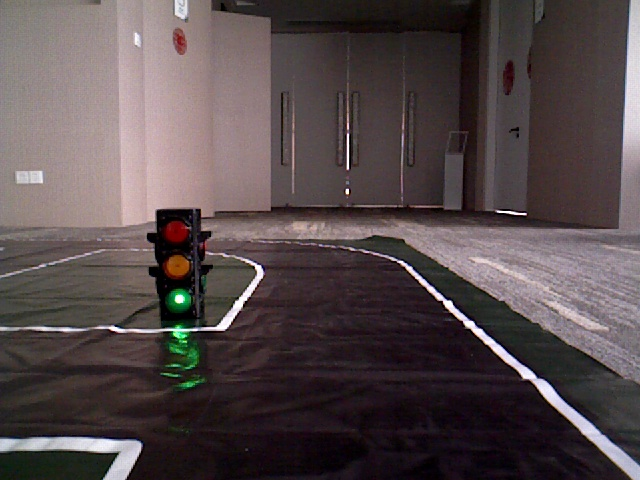green: (155, 213, 197, 320)
